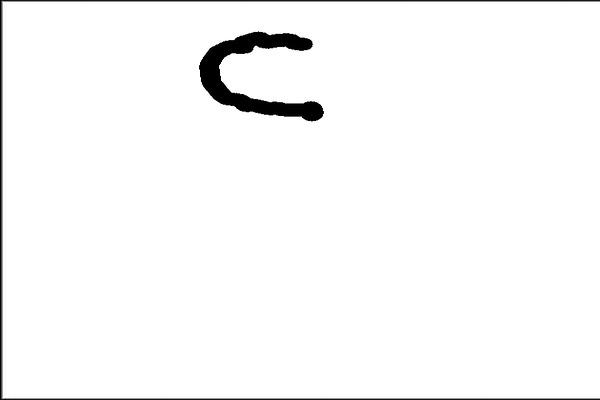C: (194, 23, 331, 125)
